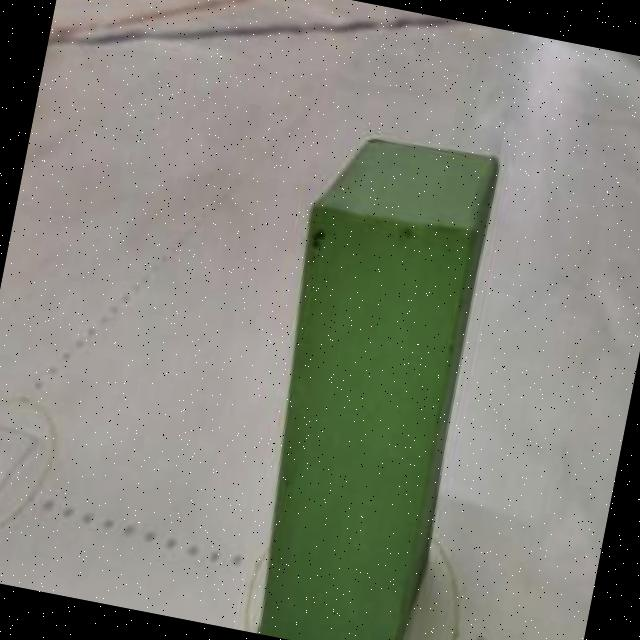greenbox: (229, 123, 508, 640)
